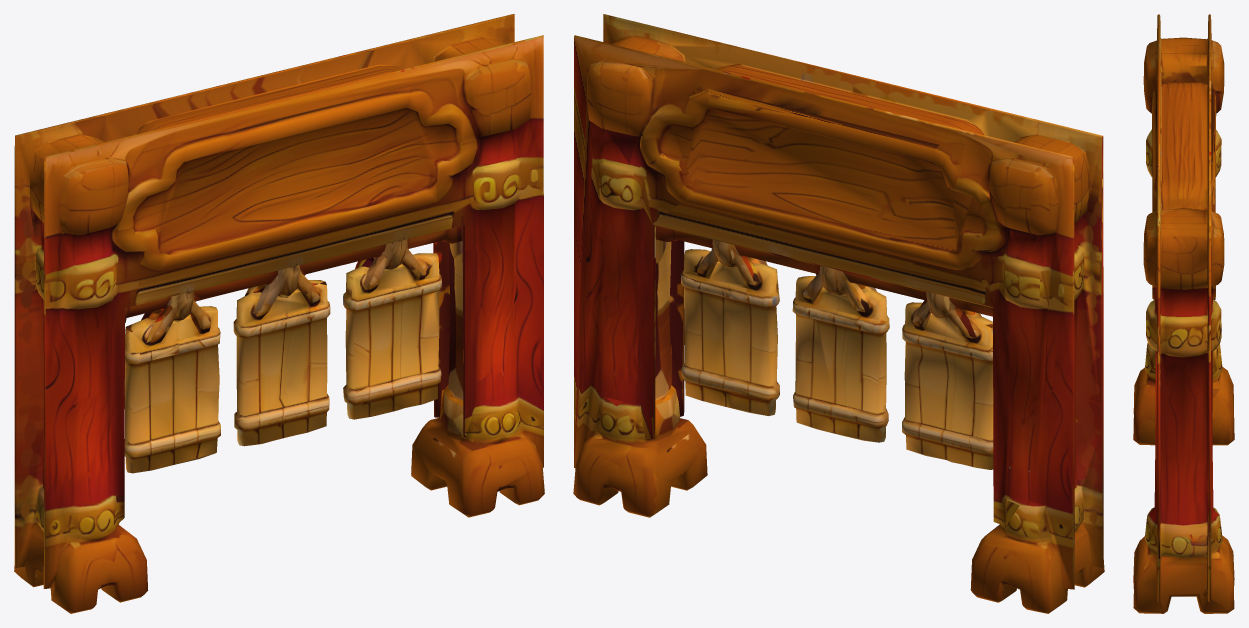
File: village_board.fbx
The picture shows the model from 3 angles, left to right: view 1: azimuth 30°, elevation 25°; view 2: azimuth 150°, elevation 25°; view 3: azimuth 270°, elevation 25°; orthographic projection. The views are drawn at different scales.
Parts seen in each view (by area): view 1: 1_output_1794025446719618_pQBadZmNr; view 2: 1_output_1794025446719618_pQBadZmNr; view 3: 1_output_1794025446719618_pQBadZmNr.
Boxes of the visible parts, x1,y1,x2,y2 form: 1_output_1794025446719618_pQBadZmNr: (14,14,544,613); 1_output_1794025446719618_pQBadZmNr: (573,14,1104,613); 1_output_1794025446719618_pQBadZmNr: (1133,14,1234,613).
Size of the model in its own units: 2.54 by 2.2 by 0.5116.
1 material, 1 textured.
